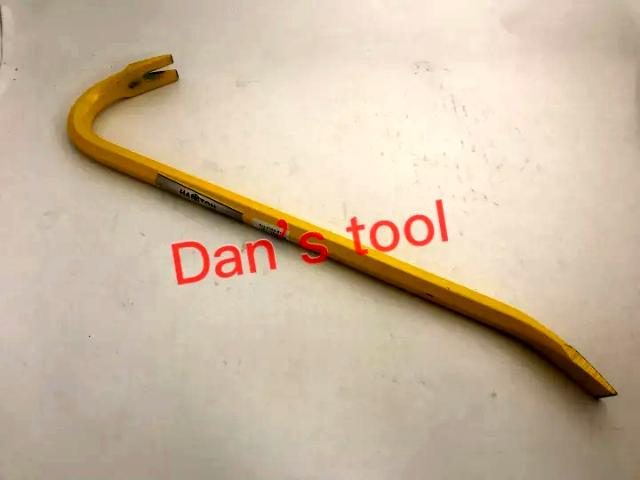crow bar: (68, 51, 617, 403)
